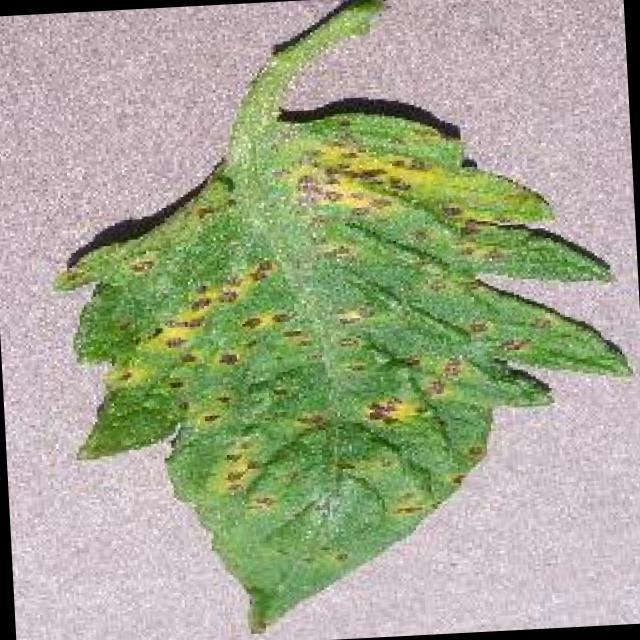Tomato Septoria spot leaf: (47, 98, 640, 640)
